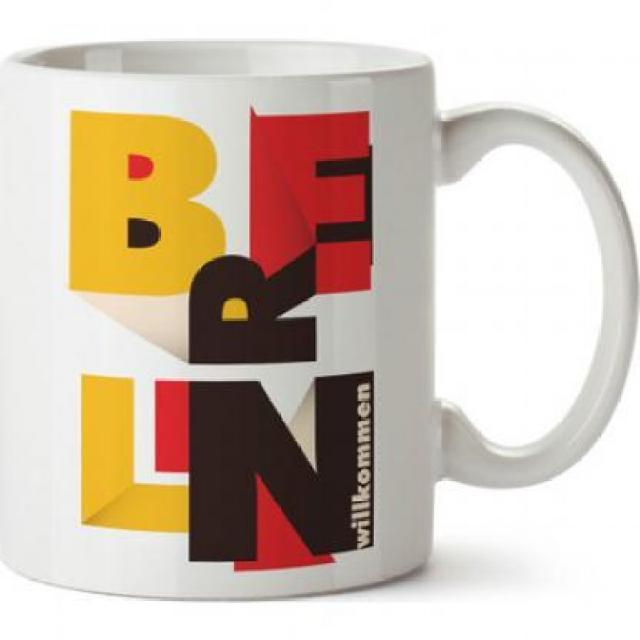taza: (0, 37, 640, 604)
